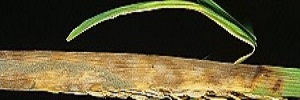RiceSheathBrownRot: (1, 53, 299, 94)
